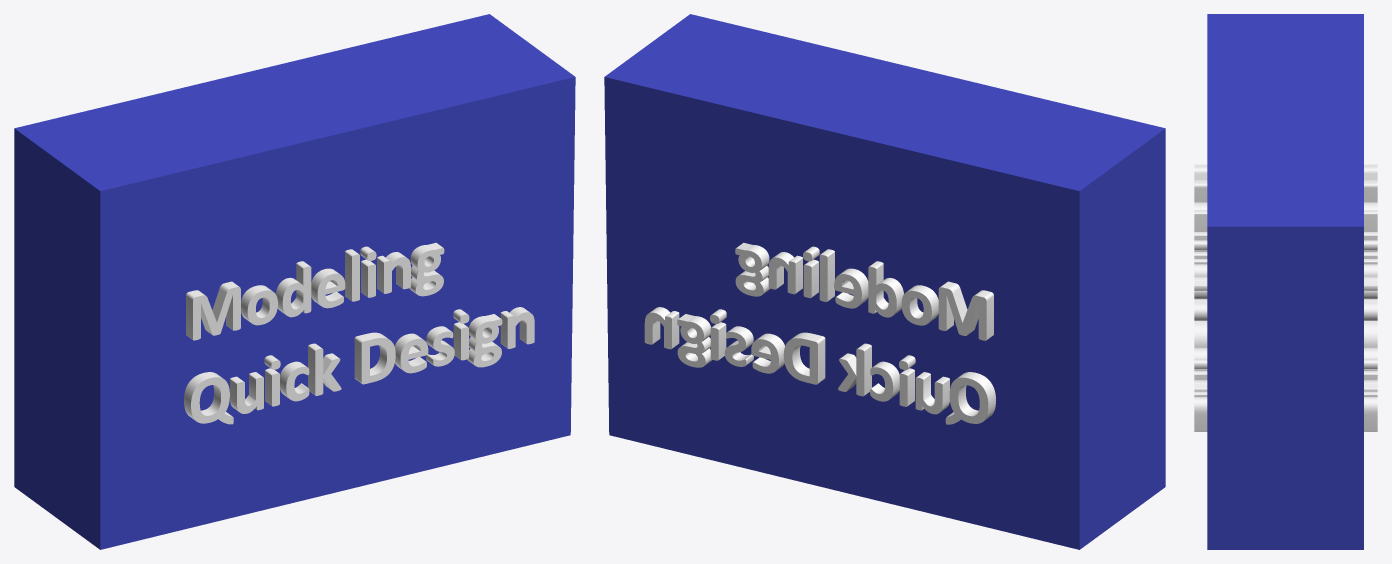
Rendered from modeldesign.fbx.
3 views of the same model, side by side, from view 1: azimuth 30°, elevation 25°; view 2: azimuth 150°, elevation 25°; view 3: azimuth 270°, elevation 25° (orthographic). The views are drawn at different scales.
Visible parts, largest first — view 1: root, node_id74 (×2); view 2: root, node_id74 (×2); view 3: root, node_id74 (×2).
Boxes of the visible parts, x1,y1,x2,y2 form: root: (14, 14, 575, 549); node_id74 (×2): (184, 242, 534, 424); root: (604, 14, 1165, 549); node_id74 (×2): (644, 242, 995, 424); root: (1207, 14, 1363, 549); node_id74 (×2): (1194, 164, 1377, 431).
Bounding box in the file's own units: 0.1458 × 0.1051 × 0.0534.
